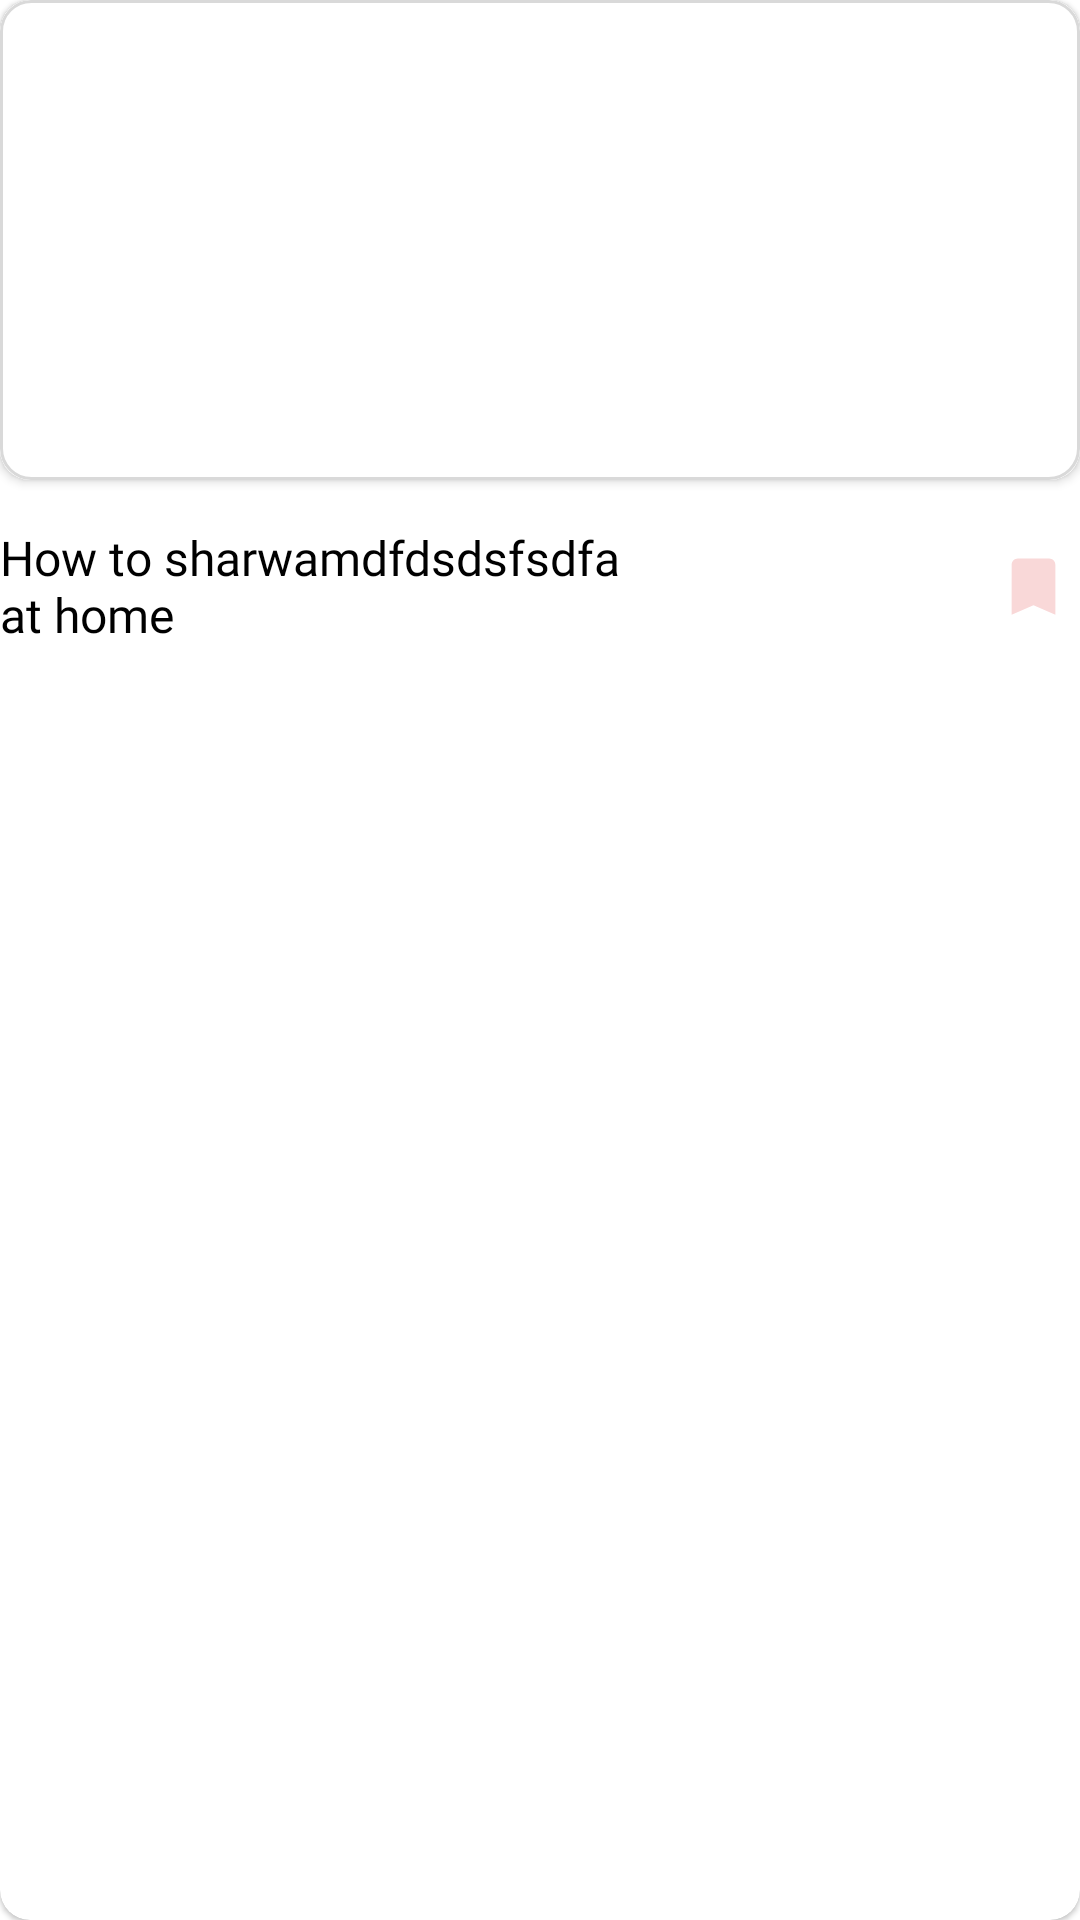

Point at icon controls on the screen. Image size 1080px×1920px, points as [x,y].
saved: [1033,586]
